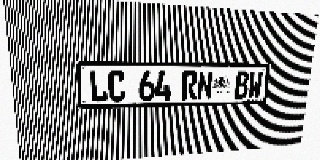4: (155, 71, 171, 101)
6: (139, 71, 155, 101)
B: (234, 71, 250, 99)
C: (108, 71, 125, 102)
L: (89, 71, 108, 102)
N: (197, 71, 213, 100)
R: (182, 71, 198, 100)
W: (248, 71, 263, 99)
